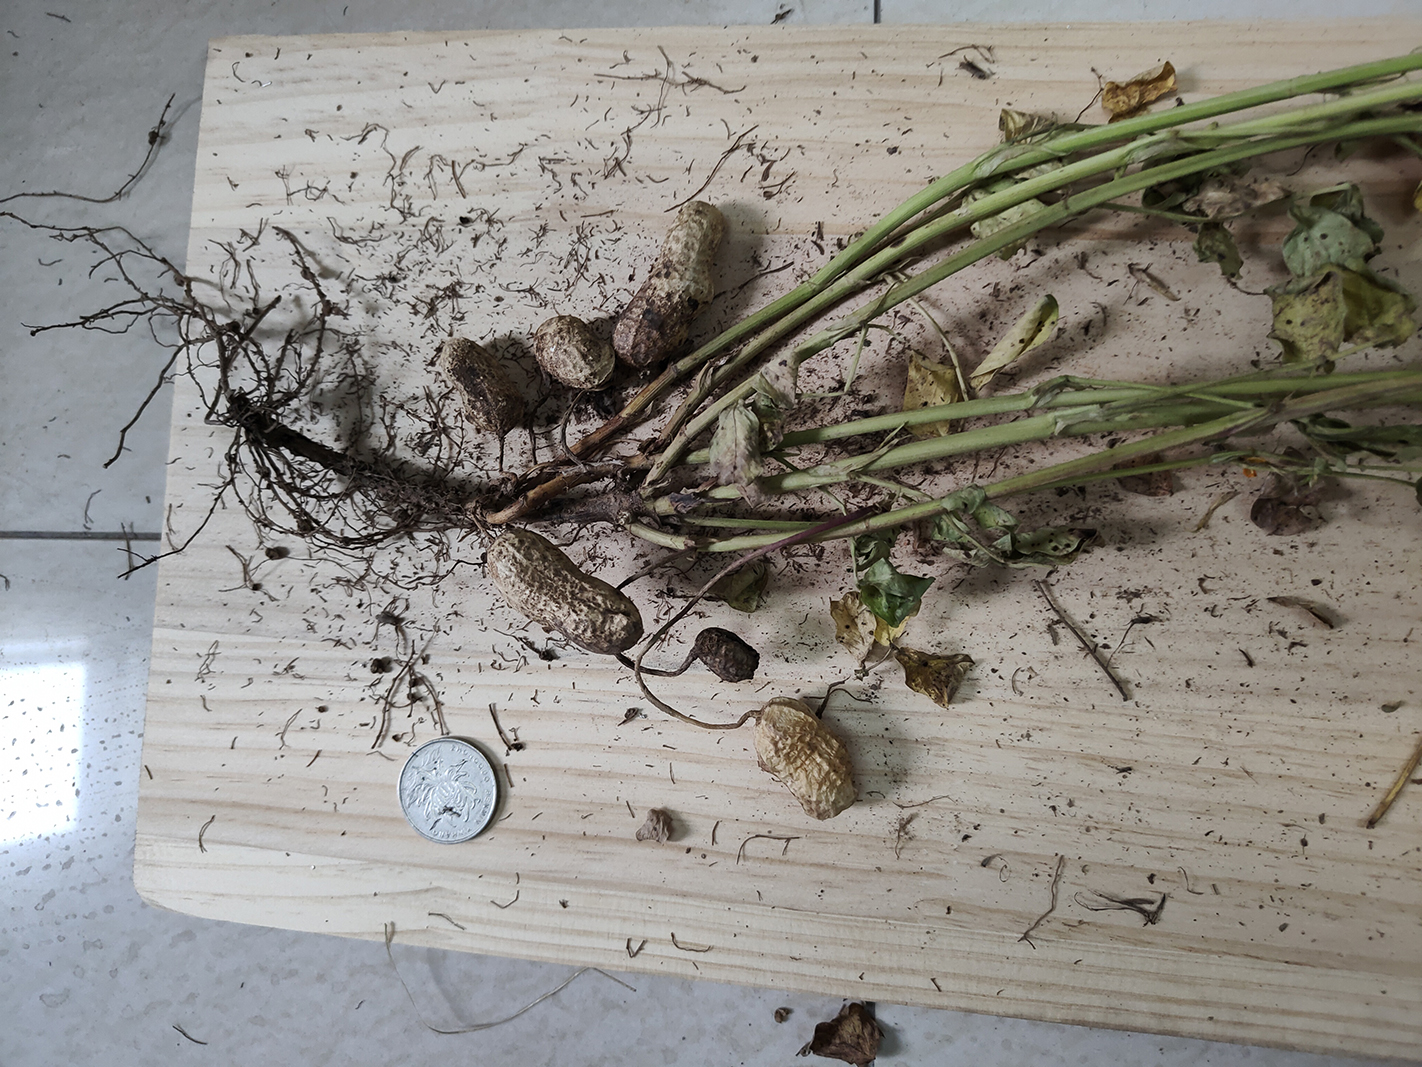h: (486, 529, 645, 653), (615, 201, 726, 369), (753, 697, 857, 822), (532, 315, 611, 386)
l: (437, 338, 515, 433), (698, 625, 764, 684)
